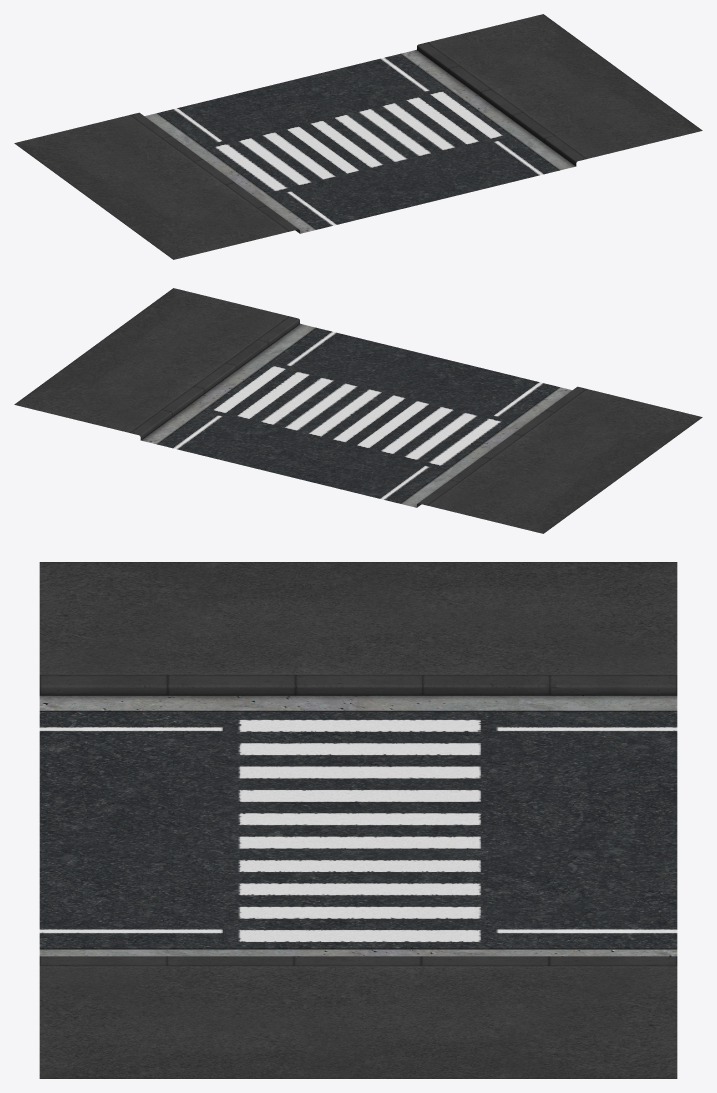
The model's file is cross1.fbx.
3 views of the same model, one above another, from view 1: azimuth 30°, elevation 25°; view 2: azimuth 150°, elevation 25°; view 3: azimuth 270°, elevation 25° (orthographic). The views are drawn at different scales.
Parts seen in each view (by area): view 1: obj0; view 2: obj0; view 3: obj0.
Boxes of the visible parts, bbox=[...] form: obj0: bbox=[14, 14, 702, 259]; obj0: bbox=[14, 288, 702, 533]; obj0: bbox=[39, 562, 677, 1078].
Bounding box in the file's own units: 29.21 × 0.254 × 15.24.
